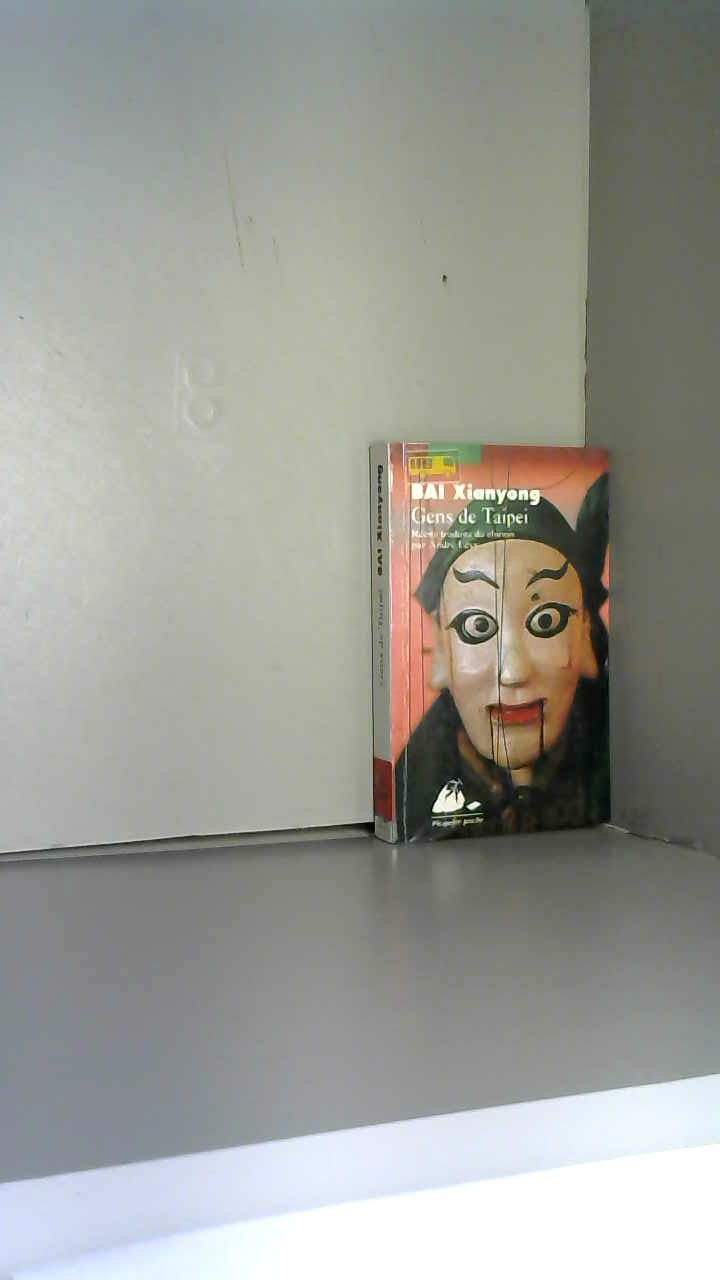book: (349, 422, 632, 857)
